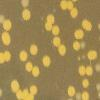yellow: (10, 78, 19, 94), (72, 29, 85, 40), (21, 9, 31, 23), (81, 18, 91, 32), (2, 17, 11, 32), (2, 30, 11, 45), (42, 54, 51, 69), (18, 0, 32, 9), (29, 83, 38, 97), (84, 63, 93, 77), (87, 50, 98, 61), (19, 50, 28, 63), (23, 60, 32, 73), (3, 48, 11, 62), (31, 64, 39, 78), (52, 36, 62, 47), (45, 14, 55, 25), (30, 44, 39, 56), (44, 22, 54, 32), (59, 0, 68, 11), (59, 45, 67, 57), (52, 25, 60, 37), (68, 85, 75, 98), (69, 8, 78, 18), (65, 0, 74, 10), (22, 93, 34, 100), (81, 91, 90, 100), (16, 90, 24, 100), (72, 41, 80, 51), (82, 78, 89, 89), (78, 65, 85, 76), (0, 52, 5, 66), (23, 88, 29, 96), (75, 92, 81, 100), (95, 63, 100, 72), (0, 14, 4, 24), (0, 87, 3, 98), (96, 83, 100, 90), (97, 91, 100, 100), (97, 23, 100, 30)
